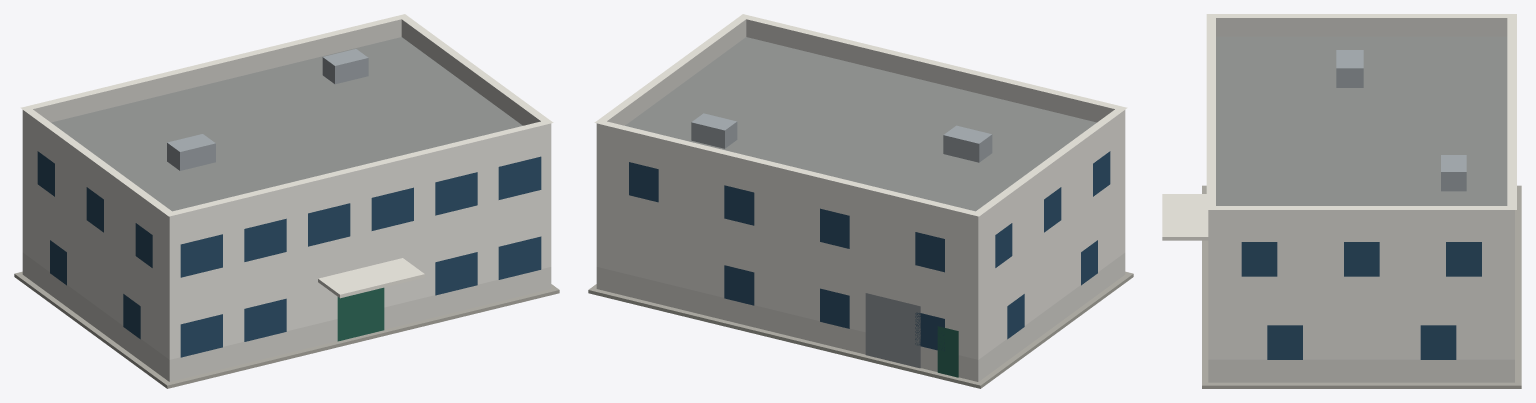
File: office_18x12_2f_lod1.glb
3 renders of one model, left to right at view 1: azimuth 30°, elevation 25°; view 2: azimuth 150°, elevation 25°; view 3: azimuth 270°, elevation 25°, orthographic. The views are drawn at different scales.
Visible parts, largest first — view 1: block; view 2: block; view 3: block.
Part boxes in pixels (x1=…): block: x1=14, y1=14, x2=559, y2=388; block: x1=588, y1=14, x2=1133, y2=388; block: x1=1162, y1=14, x2=1521, y2=388.
Size of the model in its own units: 18.5 by 7.7 by 14.05.
